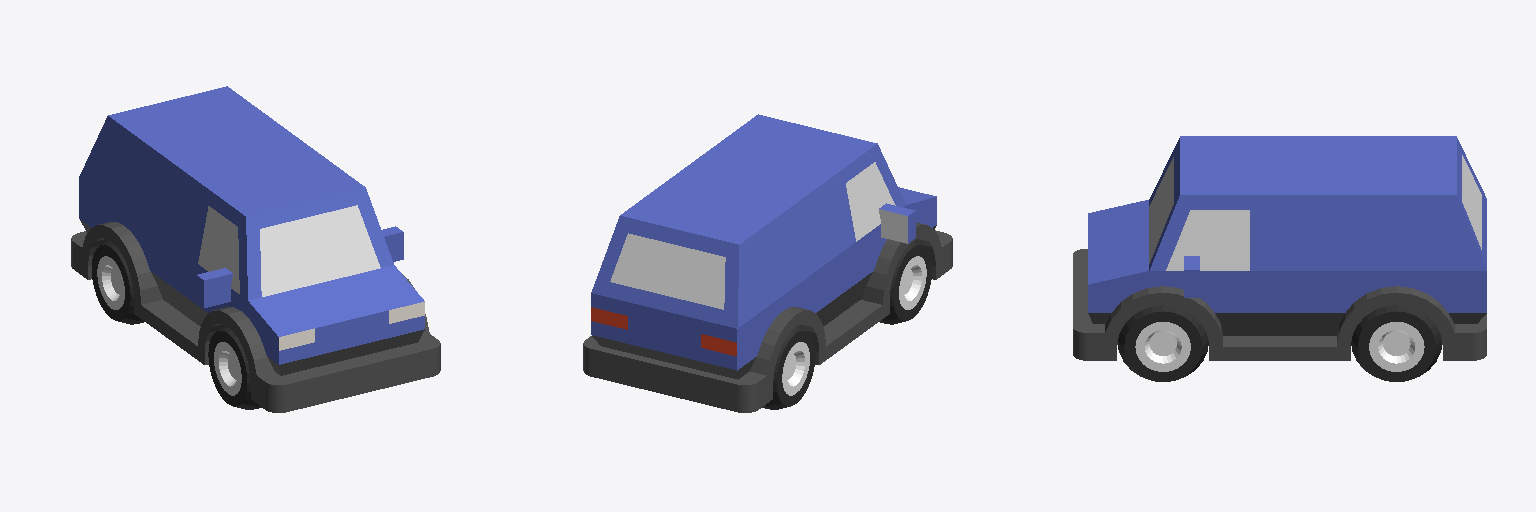
Rendered from van.obj.
3 renders of one model, left to right at view 1: azimuth 30°, elevation 25°; view 2: azimuth 150°, elevation 25°; view 3: azimuth 270°, elevation 25°, orthographic.
Visible parts, largest first — view 1: body, wheel_frontRight, wheel_backRight; view 2: body, wheel_backRight, wheel_frontRight; view 3: body, wheel_backLeft, wheel_frontLeft.
Part boxes in pixels (left/top/right/bottom): body: left=71, top=86, right=440, bottom=412; wheel_frontRight: left=208, top=325, right=261, bottom=409; wheel_backRight: left=92, top=240, right=144, bottom=324; body: left=583, top=114, right=952, bottom=412; wheel_backRight: left=762, top=325, right=815, bottom=409; wheel_frontRight: left=879, top=240, right=931, bottom=324; body: left=1073, top=136, right=1486, bottom=360; wheel_backLeft: left=1351, top=305, right=1441, bottom=381; wheel_frontLeft: left=1118, top=305, right=1208, bottom=381.
Size of the model in its own units: 59.06 by 51.18 by 106.